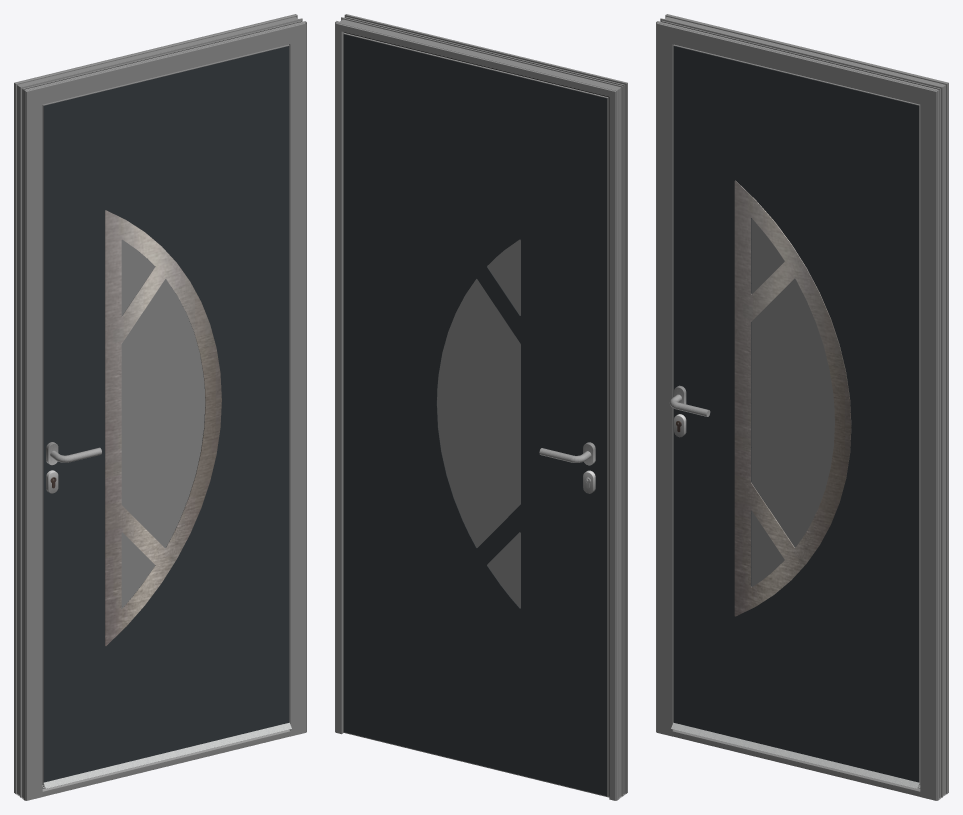
3 views of the same model, side by side, from view 1: azimuth 30°, elevation 25°; view 2: azimuth 150°, elevation 25°; view 3: azimuth 330°, elevation 25° (orthographic).
Parts seen in each view (by area): view 1: bloco_13, aroFixo, Box001, alunox_9, aroMovel, rodapé, escovas, puxador001; view 2: bloco_13, aroFixo, Box002, aroMovel, puxador; view 3: bloco_13, aroFixo, Box001, alunox_9, aroMovel, rodapé, escovas, puxador001.
Boxes of the visible parts, x1,y1,x2,y2 form: bloco_13: (43, 46, 289, 782); aroFixo: (14, 14, 306, 800); Box001: (121, 239, 205, 608); alunox_9: (105, 210, 221, 645); aroMovel: (42, 44, 289, 784); rodapé: (42, 729, 290, 796); escovas: (42, 722, 291, 788); puxador001: (46, 442, 101, 493); bloco_13: (343, 34, 607, 796); aroFixo: (335, 14, 627, 800); Box002: (437, 239, 520, 608); aroMovel: (343, 32, 609, 796); puxador: (539, 442, 595, 493); bloco_13: (673, 46, 918, 782); aroFixo: (656, 14, 948, 800); Box001: (751, 218, 834, 586); alunox_9: (734, 180, 851, 616); aroMovel: (673, 44, 920, 784); rodapé: (672, 729, 920, 796); escovas: (671, 722, 920, 788); puxador001: (669, 385, 710, 437).
Size of the model in its own units: 900 by 2165 by 209.
10 materials, 5 textured.
